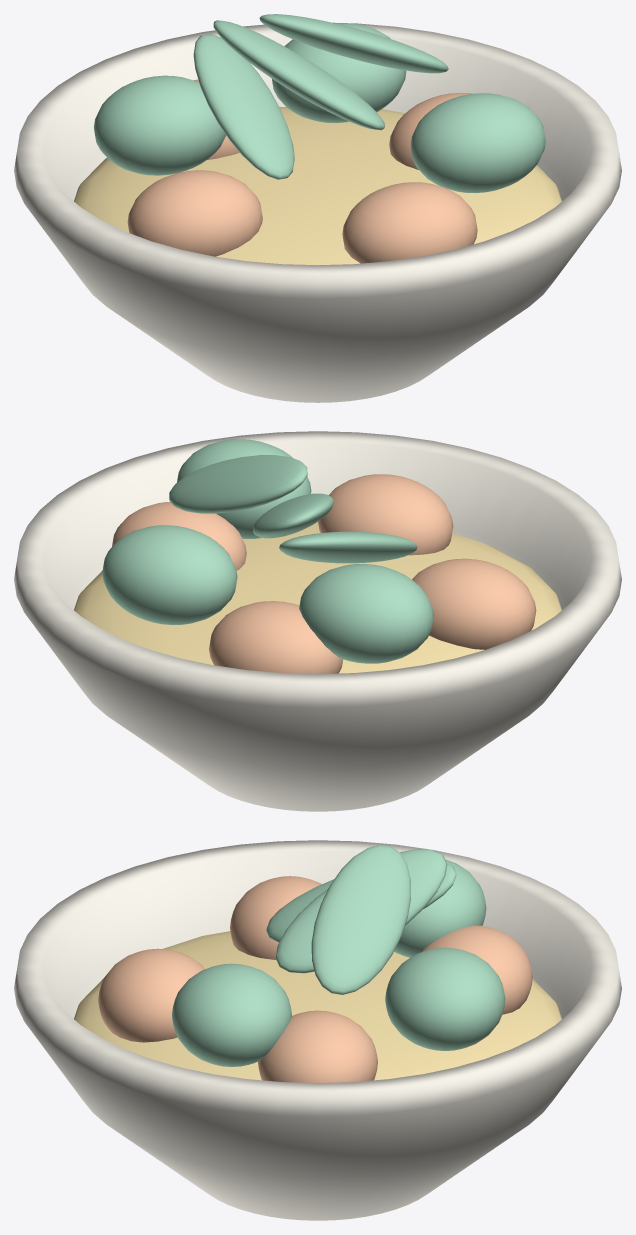
File: nutrition.glb
The picture shows the model from 3 angles, top to bottom: view 1: azimuth 30°, elevation 25°; view 2: azimuth 150°, elevation 25°; view 3: azimuth 270°, elevation 25°; orthographic projection.
Visible parts, largest first — view 1: Nutrition_Bowl, Nutrition_Grain_Base, Nutrition_Ingredient_5, Nutrition_Ingredient_1, Nutrition_Ingredient_4, Nutrition_Ingredient_2, Nutrition_Leaf_0, Nutrition_Leaf_1, Nutrition_Leaf_2, Nutrition_Ingredient_3, Nutrition_Ingredient_0; view 2: Nutrition_Bowl, Nutrition_Grain_Base, Nutrition_Ingredient_3, Nutrition_Ingredient_1, Nutrition_Ingredient_4, Nutrition_Ingredient_2, Nutrition_Ingredient_6, Nutrition_Leaf_2, Nutrition_Leaf_0, Nutrition_Ingredient_5, Nutrition_Ingredient_0, Nutrition_Leaf_1; view 3: Nutrition_Bowl, Nutrition_Grain_Base, Nutrition_Leaf_2, Nutrition_Ingredient_3, Nutrition_Ingredient_5, Nutrition_Ingredient_2, Nutrition_Ingredient_0, Nutrition_Leaf_1, Nutrition_Ingredient_1, Nutrition_Ingredient_6, Nutrition_Ingredient_4, Nutrition_Leaf_0.
Part boxes in pixels (x1=…): Nutrition_Bowl: x1=14, y1=22, x2=621, y2=402; Nutrition_Grain_Base: x1=74, y1=106, x2=561, y2=265; Nutrition_Ingredient_5: x1=410, y1=93, x2=545, y2=193; Nutrition_Ingredient_1: x1=94, y1=75, x2=226, y2=175; Nutrition_Ingredient_4: x1=127, y1=170, x2=262, y2=256; Nutrition_Ingredient_2: x1=342, y1=182, x2=477, y2=263; Nutrition_Leaf_0: x1=193, y1=34, x2=294, y2=179; Nutrition_Leaf_1: x1=213, y1=20, x2=384, y2=130; Nutrition_Leaf_2: x1=259, y1=14, x2=448, y2=73; Nutrition_Ingredient_3: x1=272, y1=23, x2=406, y2=122; Nutrition_Ingredient_0: x1=389, y1=93, x2=472, y2=169; Nutrition_Bowl: x1=14, y1=431, x2=621, y2=811; Nutrition_Grain_Base: x1=74, y1=522, x2=561, y2=673; Nutrition_Ingredient_3: x1=102, y1=525, x2=237, y2=624; Nutrition_Ingredient_1: x1=299, y1=564, x2=433, y2=663; Nutrition_Ingredient_4: x1=412, y1=558, x2=536, y2=649; Nutrition_Ingredient_2: x1=318, y1=474, x2=453, y2=555; Nutrition_Ingredient_6: x1=209, y1=601, x2=343, y2=673; Nutrition_Leaf_2: x1=169, y1=455, x2=307, y2=513; Nutrition_Leaf_0: x1=279, y1=531, x2=417, y2=563; Nutrition_Ingredient_5: x1=177, y1=439, x2=311, y2=538; Nutrition_Ingredient_0: x1=112, y1=502, x2=246, y2=570; Nutrition_Leaf_1: x1=253, y1=493, x2=333, y2=538; Nutrition_Bowl: x1=14, y1=840, x2=621, y2=1220; Nutrition_Grain_Base: x1=74, y1=931, x2=561, y2=1080; Nutrition_Leaf_2: x1=311, y1=844, x2=410, y2=994; Nutrition_Ingredient_3: x1=385, y1=947, x2=505, y2=1050; Nutrition_Ingredient_5: x1=172, y1=963, x2=291, y2=1066; Nutrition_Ingredient_2: x1=98, y1=948, x2=204, y2=1042; Nutrition_Ingredient_0: x1=258, y1=1010, x2=377, y2=1082; Nutrition_Leaf_1: x1=275, y1=849, x2=447, y2=973; Nutrition_Ingredient_1: x1=394, y1=859, x2=486, y2=957; Nutrition_Ingredient_6: x1=421, y1=925, x2=532, y2=1014; Nutrition_Ingredient_4: x1=230, y1=876, x2=321, y2=959; Nutrition_Leaf_0: x1=266, y1=864, x2=456, y2=942.
Size of the model in its own units: 1.82 by 1.04 by 1.82.
